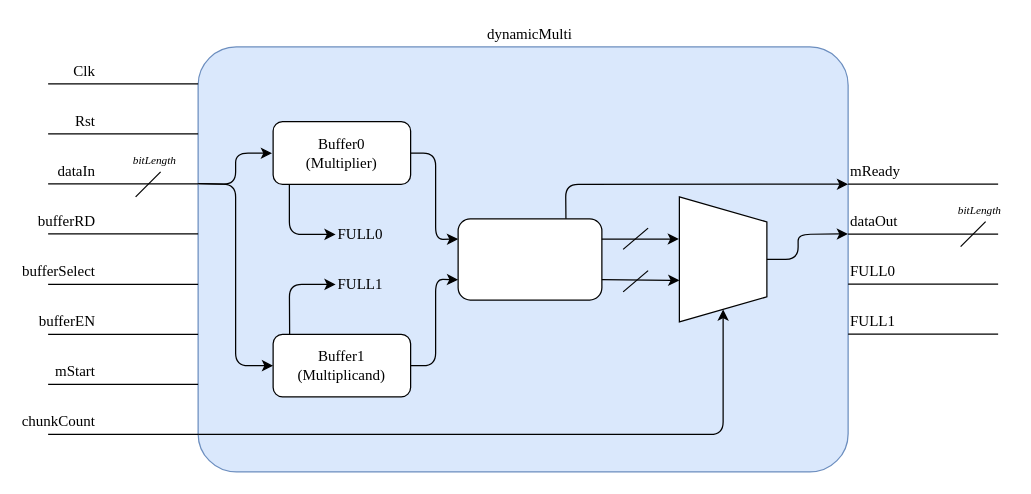
The diagram is 1031 pixels wide and 494 high, and some of its shapes have lost their labels. The shapes that lost their labels are listed below. From the top down, each one's box as (x1, y1, x2, y2) in pixels, then its label:
(457, 218, 602, 300): mCompute (Dynamic Partition)
(678, 196, 767, 322): Product Bit Output Selector
